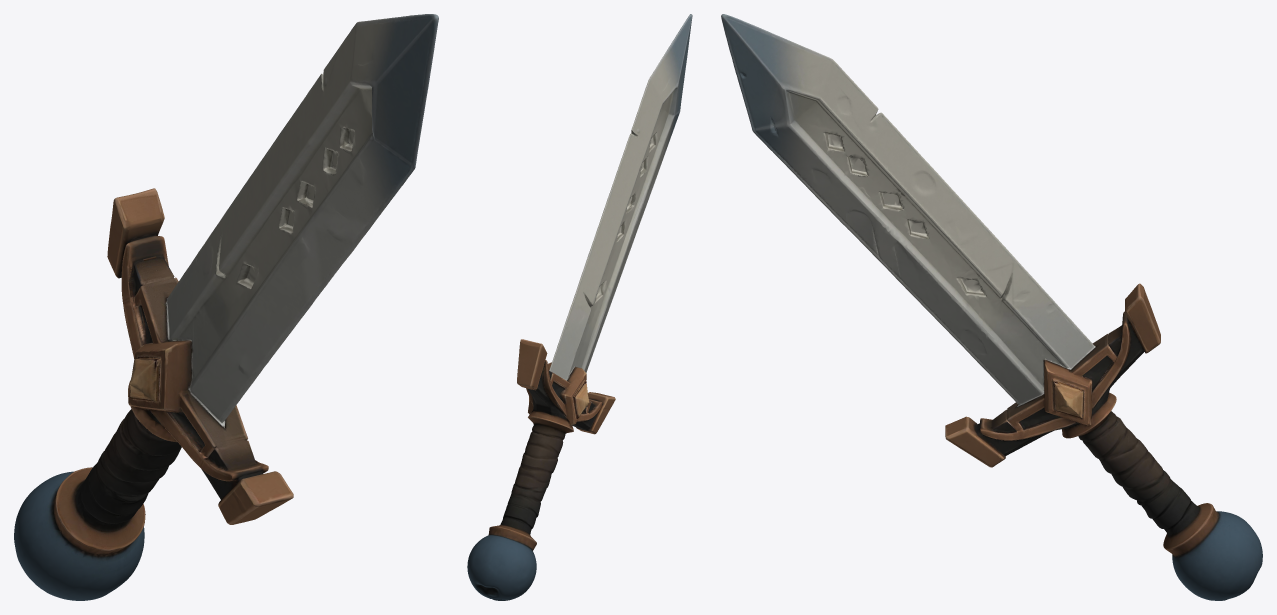
Rendered from 1h_sword_02.glb.
The picture shows the model from 3 angles, left to right: view 1: azimuth 30°, elevation 25°; view 2: azimuth 150°, elevation 25°; view 3: azimuth 270°, elevation 25°; orthographic projection. The views are drawn at different scales.
Visible parts, largest first — view 1: tripo_node_5bb965ef-ca36-4bd5-9e3e-e7732a5c8318; view 2: tripo_node_5bb965ef-ca36-4bd5-9e3e-e7732a5c8318; view 3: tripo_node_5bb965ef-ca36-4bd5-9e3e-e7732a5c8318.
Boxes of the visible parts, bbox=[...] form: tripo_node_5bb965ef-ca36-4bd5-9e3e-e7732a5c8318: bbox=[14, 14, 438, 600]; tripo_node_5bb965ef-ca36-4bd5-9e3e-e7732a5c8318: bbox=[467, 14, 692, 600]; tripo_node_5bb965ef-ca36-4bd5-9e3e-e7732a5c8318: bbox=[721, 14, 1262, 600].
Bounding box in the file's own units: 0.1423 × 1 × 0.8429.
1 material, 1 textured.
